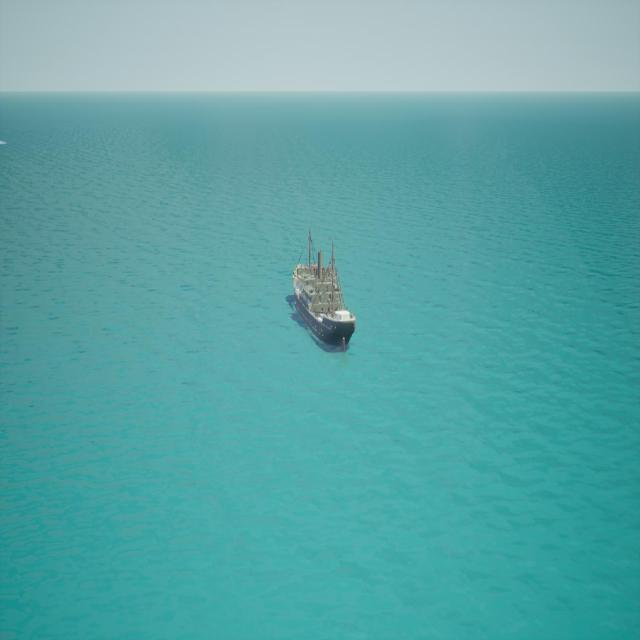fishing ship: (290, 229, 355, 355)
